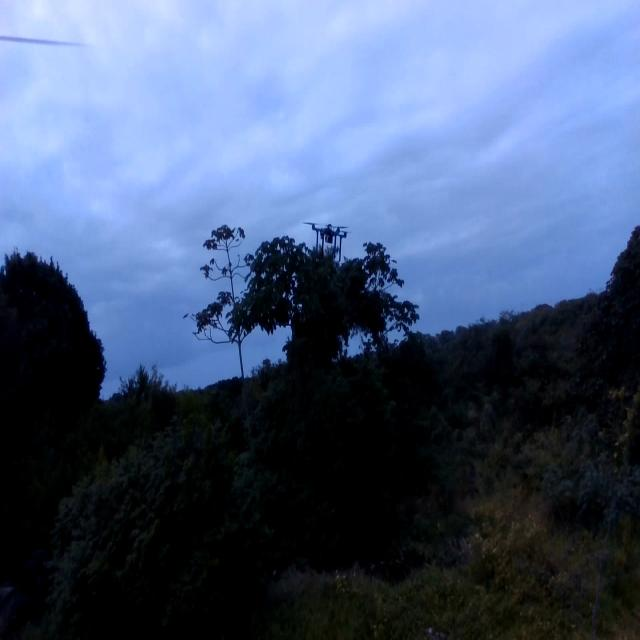-uav-: (296, 199, 358, 274)
